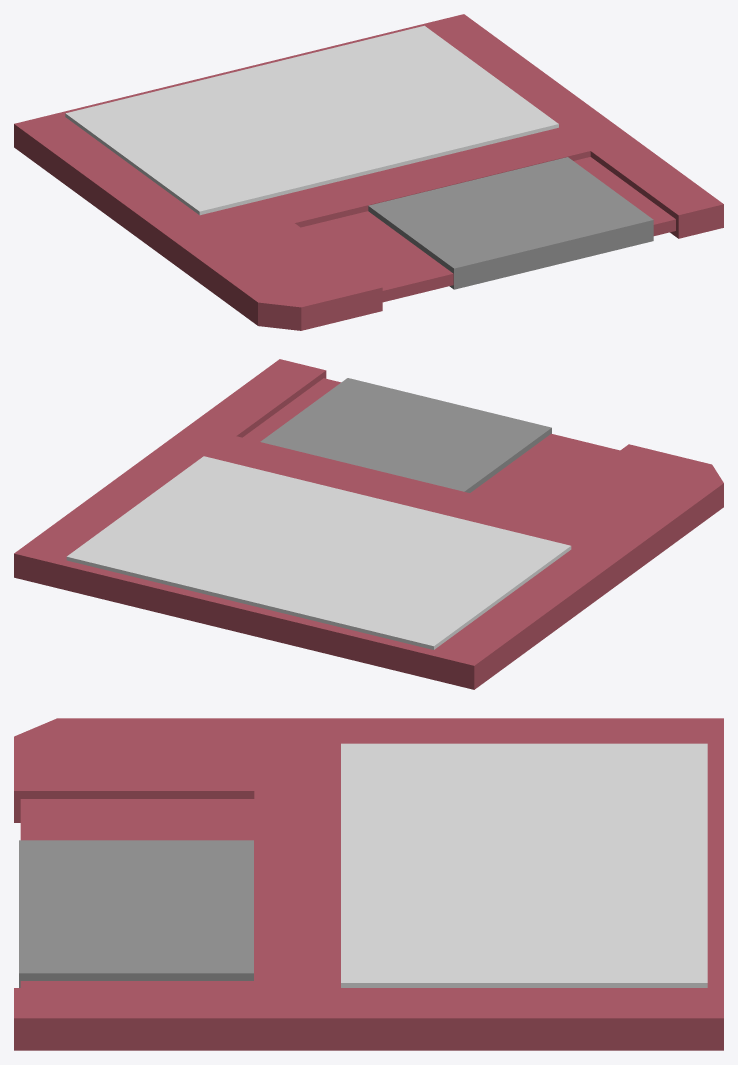
The model's file is FloppyDisk5.fbx.
3 views of the same model, one above another, from view 1: azimuth 30°, elevation 25°; view 2: azimuth 150°, elevation 25°; view 3: azimuth 270°, elevation 25° (orthographic). The views are drawn at different scales.
Visible parts, largest first — view 1: pCube19; view 2: pCube19; view 3: pCube19.
Boxes of the visible parts, <box> form: pCube19: <box>14,14,723,330</box>; pCube19: <box>14,359,723,689</box>; pCube19: <box>14,718,723,1050</box>.
Size of the model in its own units: 2 by 0.1159 by 2.
